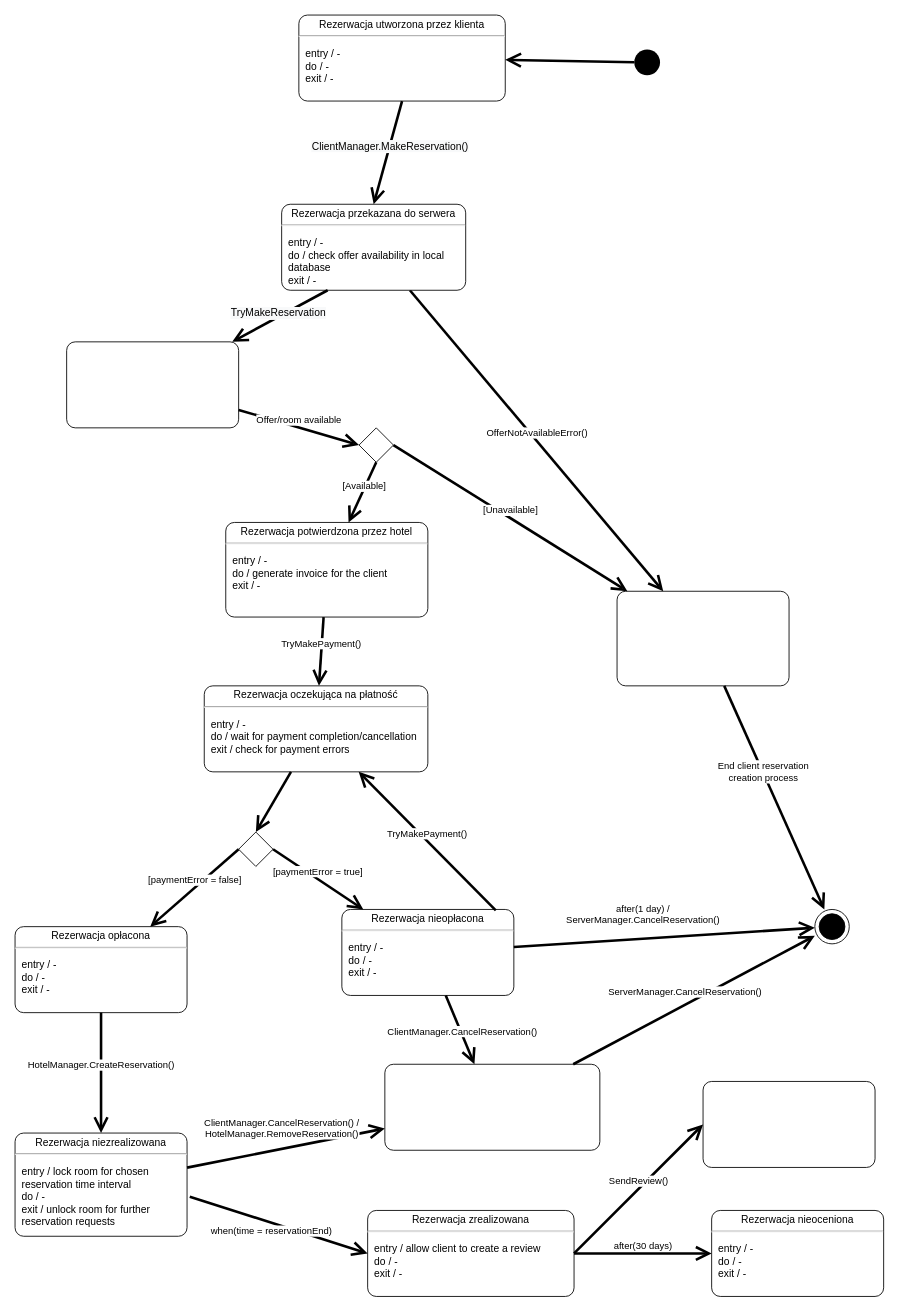
This 899x1312 diagram has some shape labels left out. Each missing label, with the box of its shape:
Rezerwacja anulowana przez klienta entry / - do / - exit / -: (384, 1063, 600, 1150)
Rezerwacja niemożliwa entry / send and display error to client do / - exit / -: (616, 590, 789, 686)
Rezerwacja oceniona entry / - do / - exit / -: (702, 1081, 875, 1167)
Rezerwacja przekazana do hotelu entry / - do / - exit / -: (66, 341, 239, 428)
